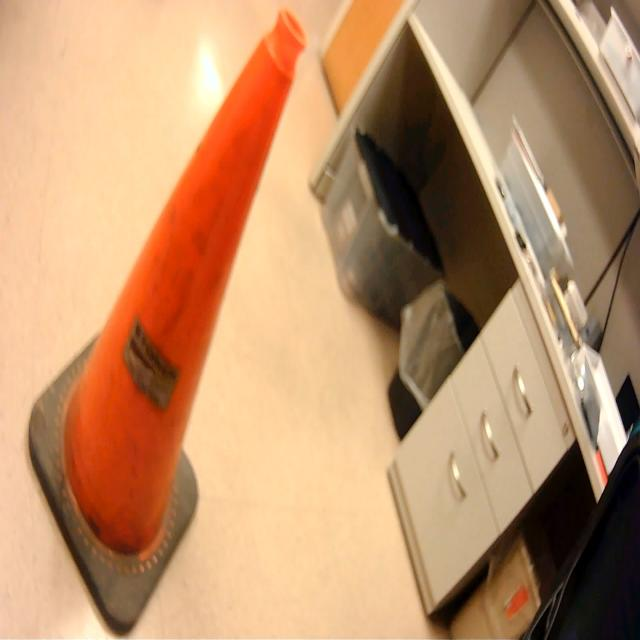traffic cone: (26, 4, 310, 640)
